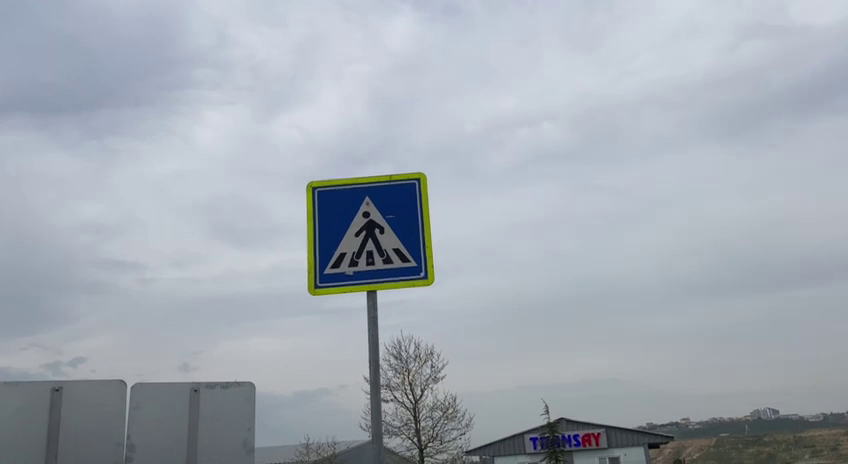pedestrianCrossing: (303, 170, 438, 297)
